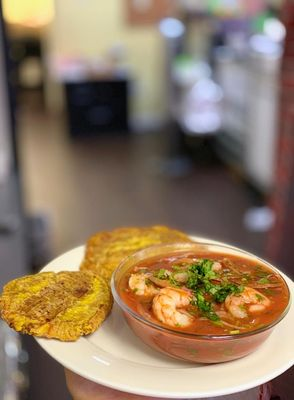sushi: (110, 240, 290, 364)
